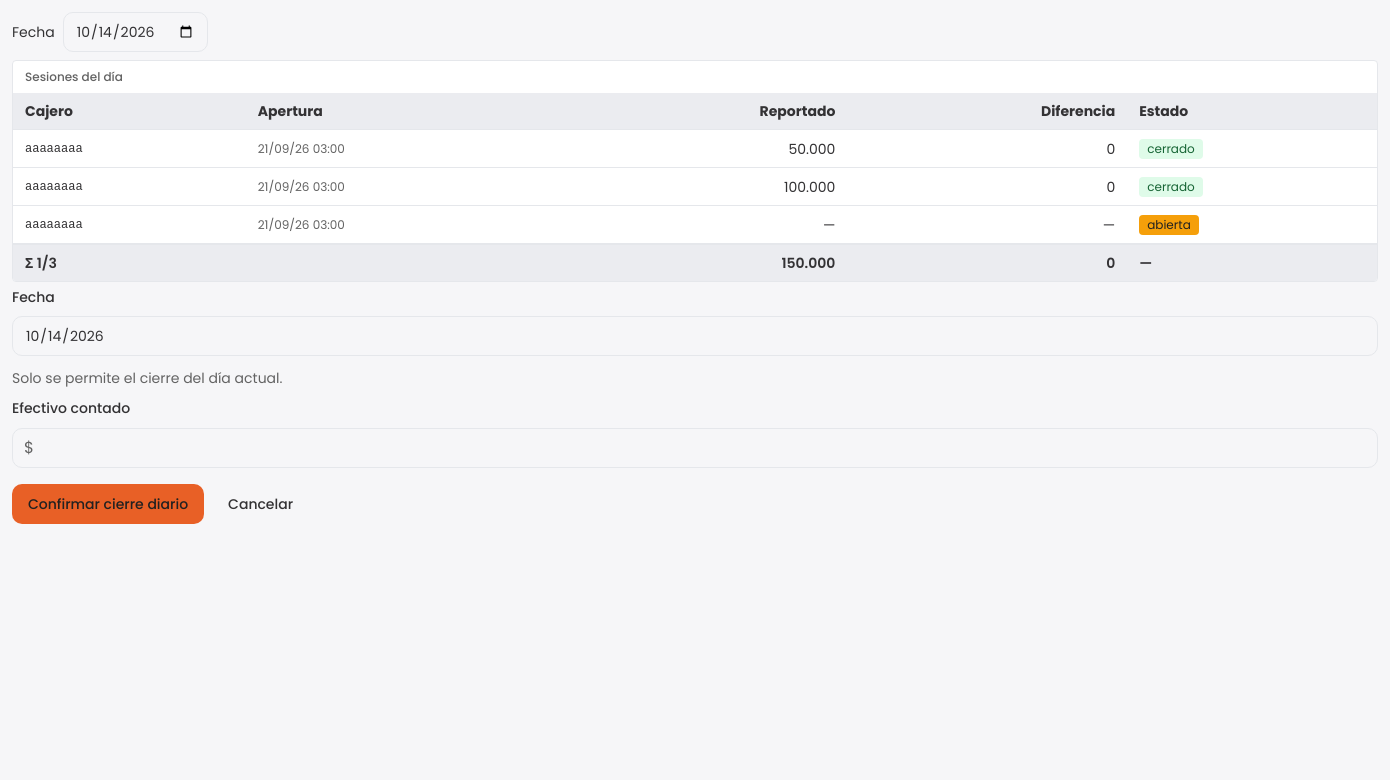
Scenario: HU-F10.3 — <CierreDiario /> routed page (REQ-OPS-164 + REQ-OPS-167, AD-3 + AD-4) › page-8: arqueo_fallido surfaces the server error detail in the banner
What coordinates should you click on to do the following:
click the button with test id "cierre-diario-confirmar"
I would click on:
 (108, 504)
Its box is [12,484,204,524].
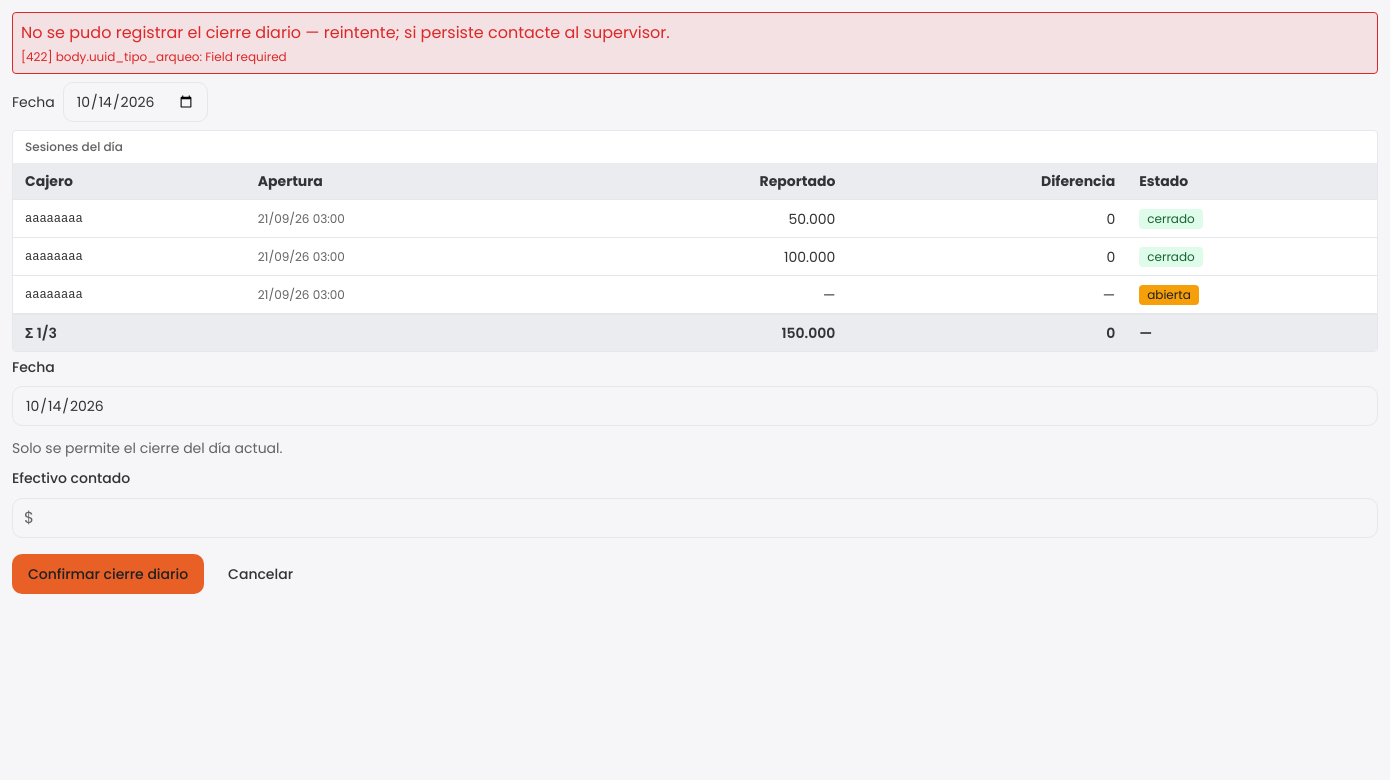
Expected: the message with test id "cierre-diario-error-5xx" shows "body.uuid_tipo_arqueo: Field required", [56,48,287,65]
Expected: the message with test id "cierre-diario-error-5xx" shows "422", [21,48,56,65]
